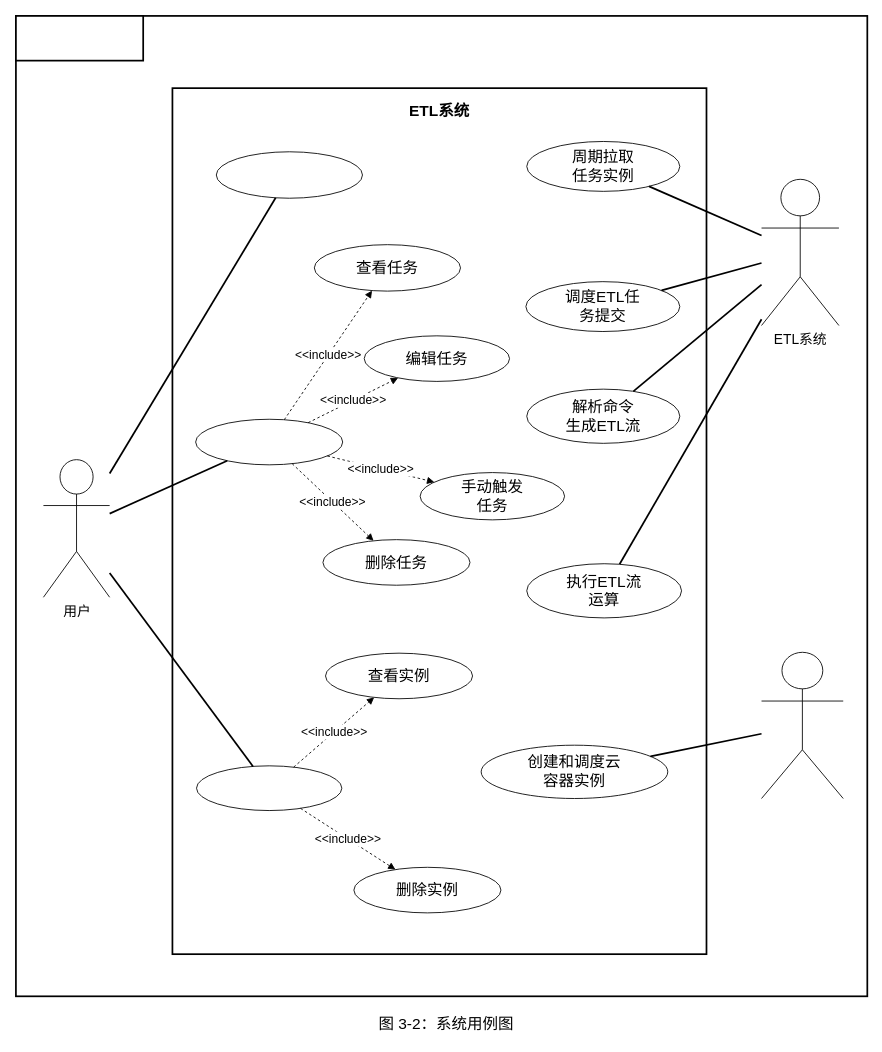
Image size: 882x1052. Some labels were removed from this diagram. The box of each missing label's shape, as (x1, y1, x2, y2) in pixels:
DR调度平台: (761, 651, 843, 799)
UC: (15, 15, 144, 61)
创建任务: (215, 151, 362, 198)
管理任务: (195, 418, 343, 465)
管理实例: (196, 765, 342, 811)
